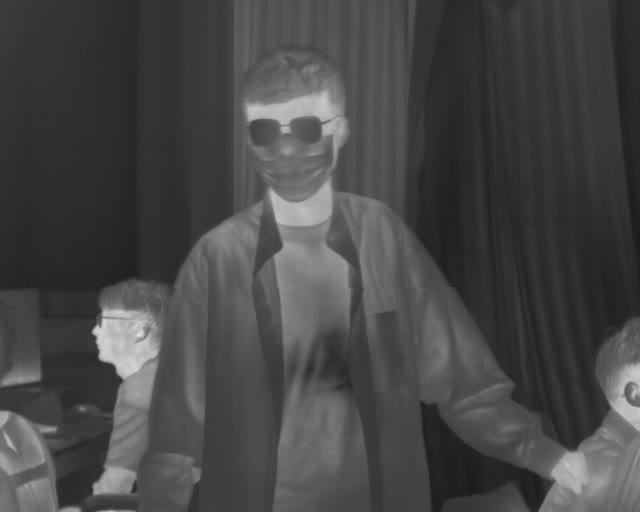face: (235, 44, 350, 205)
